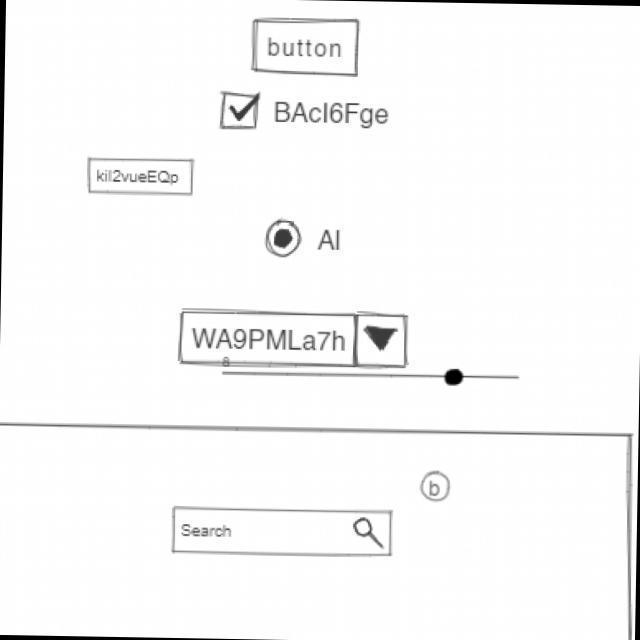button: (249, 13, 366, 79)
checkbox: (217, 86, 393, 139)
container: (1, 417, 639, 640)
icon-button: (417, 469, 454, 505)
input: (84, 156, 200, 199)
radio: (260, 219, 307, 261)
search: (170, 505, 396, 560)
select: (176, 305, 414, 373)
slider: (233, 366, 523, 388)
